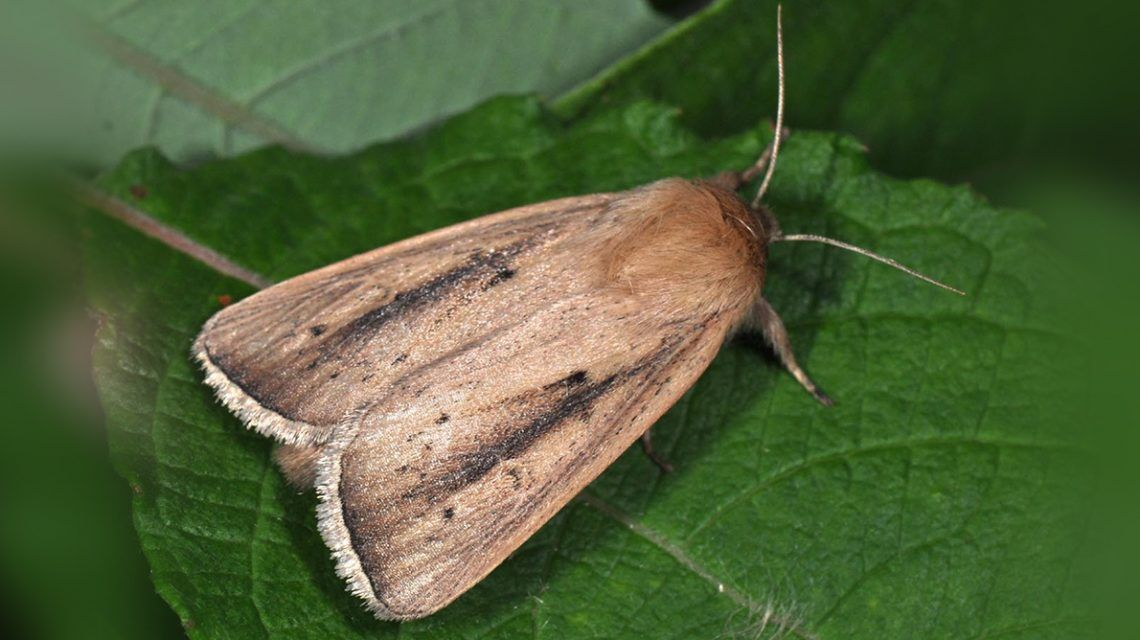Noctuidae: (188, 1, 965, 628)
